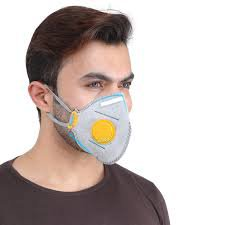mask: (23, 2, 145, 180)
